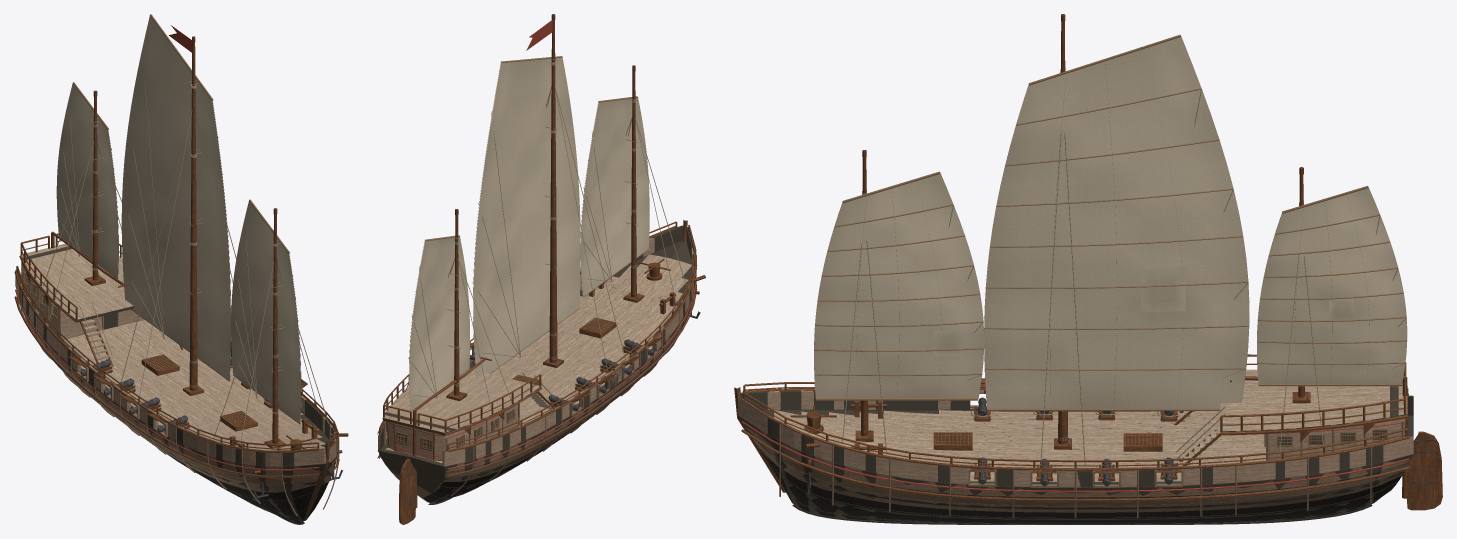
Rendered from fuchuan-lod2.glb.
3 views of the same model, side by side, from view 1: azimuth 30°, elevation 25°; view 2: azimuth 150°, elevation 25°; view 3: azimuth 270°, elevation 25° (orthographic). The views are drawn at different scales.
Visible parts, largest first — view 1: sail_1, deck, hull, sail_0, sail_2, shadow_hull, deck_fittings, bulwark_rails, mast_timber_1, sterncastle, mast_timber_0, mast_timber_2 (+6 smaller); view 2: sail_1, deck, sail_0, hull, sail_2, shadow_hull, deck_fittings, bulwark_rails, mast_timber_1, mast_timber_0, stern_transom, rudder_blade (+7 smaller); view 3: sail_1, hull, sail_0, sail_2, deck, shadow_hull, deck_fittings, bulwark_rails, rudder_blade, sterncastle, rigging_1.
Part boxes in pixels (bbox=[...]): sail_1: bbox=[121, 14, 231, 381]; deck: bbox=[19, 243, 329, 450]; hull: bbox=[14, 270, 339, 524]; sail_0: bbox=[231, 199, 301, 424]; sail_2: bbox=[56, 82, 118, 278]; shadow_hull: bbox=[15, 270, 337, 522]; deck_fittings: bbox=[21, 262, 348, 498]; bulwark_rails: bbox=[16, 233, 338, 453]; mast_timber_1: bbox=[189, 43, 197, 390]; sterncastle: bbox=[23, 266, 144, 339]; mast_timber_0: bbox=[272, 214, 278, 443]; mast_timber_2: bbox=[92, 97, 98, 280]; sail_1: bbox=[472, 56, 580, 378]; deck: bbox=[382, 254, 691, 463]; sail_0: bbox=[580, 96, 649, 297]; hull: bbox=[377, 220, 697, 504]; sail_2: bbox=[408, 235, 469, 411]; shadow_hull: bbox=[378, 225, 695, 502]; deck_fittings: bbox=[383, 258, 705, 461]; bulwark_rails: bbox=[379, 221, 695, 450]; mast_timber_1: bbox=[549, 20, 557, 362]; mast_timber_0: bbox=[631, 71, 636, 297]; stern_transom: bbox=[388, 422, 444, 458]; rudder_blade: bbox=[399, 458, 415, 524]; sail_1: bbox=[984, 35, 1249, 411]; hull: bbox=[734, 387, 1413, 524]; sail_0: bbox=[814, 171, 984, 400]; sail_2: bbox=[1257, 186, 1407, 386]; deck: bbox=[774, 369, 1407, 481]; shadow_hull: bbox=[738, 390, 1413, 523]; deck_fittings: bbox=[790, 385, 1407, 494]; bulwark_rails: bbox=[743, 354, 1408, 467]; rudder_blade: bbox=[1406, 431, 1442, 510]; sterncastle: bbox=[1266, 418, 1404, 460]; rigging_1: bbox=[1040, 132, 1085, 465].
Bounding box in the file's own units: 10.4 × 26.66 × 33.57.
Materials: 13 (8 with a texture image).
